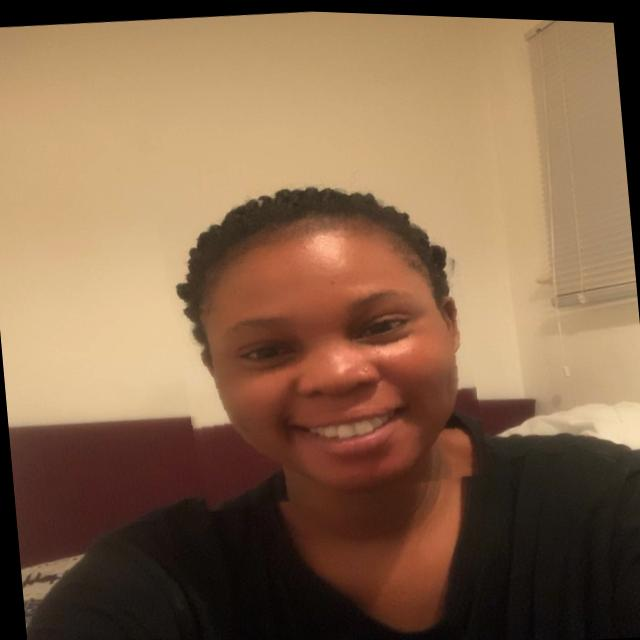happy: (160, 167, 486, 515)
